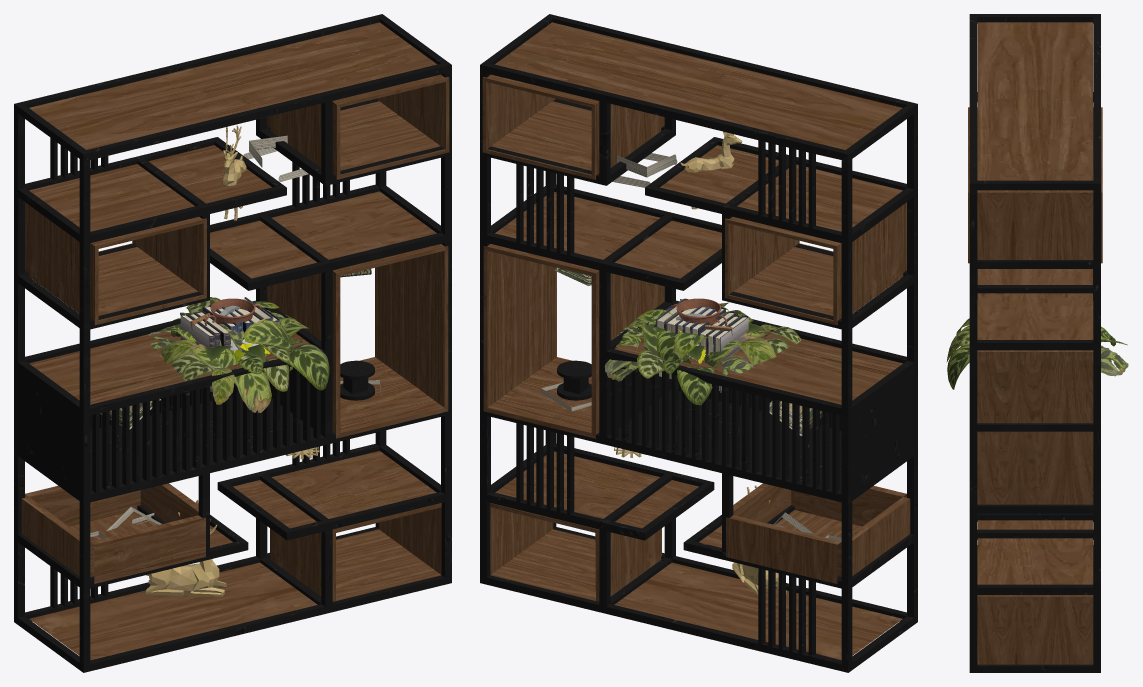
File: bookshelf_1_processed.glb
3 renders of one model, left to right at view 1: azimuth 30°, elevation 25°; view 2: azimuth 150°, elevation 25°; view 3: azimuth 270°, elevation 25°, orthographic. The views are drawn at different scales.
Visible parts, largest first — view 1: Shelf_cube_4_Cabinet_wood_0, Shelf_frame_Couch_metal_0, Plant_4_Plant_2_0, Golden_Deer_2_Gold_0, Book_pack_8_Book_pack_8.001_0, Book_9_Book_9_paper.001_0, Cup_Cup_0; view 2: Shelf_cube_4_Cabinet_wood_0, Shelf_frame_Couch_metal_0, Plant_4_Plant_2_0, Golden_Deer_2_Gold_0, Book_9_Book_9_paper.001_0, Book_pack_8_Book_pack_8.001_0, Book_pack_8_Book_pack_8_paper.001_0, Cup_Cup_0, Book_5_Book_5.001_0; view 3: Shelf_cube_4_Cabinet_wood_0, Shelf_frame_Couch_metal_0, Plant_4_Plant_2_0.
Part boxes in pixels (x1,y1,x2,y2): Shelf_cube_4_Cabinet_wood_0: (21,22,449,660); Shelf_frame_Couch_metal_0: (14,14,451,672); Plant_4_Plant_2_0: (148,297,329,412); Golden_Deer_2_Gold_0: (146,125,319,597); Book_pack_8_Book_pack_8.001_0: (180,297,279,391); Book_9_Book_9_paper.001_0: (90,135,381,538); Cup_Cup_0: (204,298,260,325); Shelf_cube_4_Cabinet_wood_0: (482,22,910,660); Shelf_frame_Couch_metal_0: (480,14,917,672); Plant_4_Plant_2_0: (604,299,801,405); Golden_Deer_2_Gold_0: (614,131,786,595); Book_9_Book_9_paper.001_0: (541,153,841,541); Book_pack_8_Book_pack_8.001_0: (646,298,748,392); Book_pack_8_Book_pack_8_paper.001_0: (657,306,746,390); Cup_Cup_0: (671,298,727,325); Book_5_Book_5.001_0: (554,268,822,436); Shelf_cube_4_Cabinet_wood_0: (968,22,1102,664); Shelf_frame_Couch_metal_0: (969,14,1100,672); Plant_4_Plant_2_0: (946,318,1128,389).
Size of the model in its own units: 68678 by 92357 by 31136.
27 materials, 24 textured.
